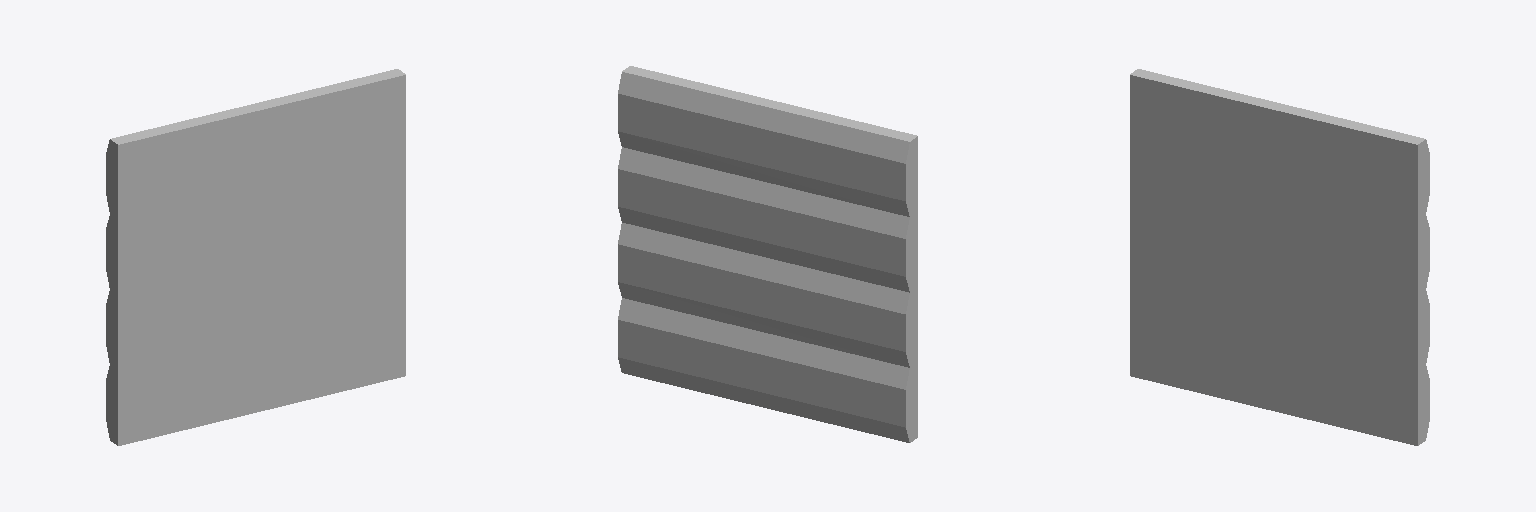
File: floor-wood-snow.obj
The picture shows the model from 3 angles: view 1: azimuth 30°, elevation 25°; view 2: azimuth 150°, elevation 25°; view 3: azimuth 330°, elevation 25°; orthographic projection.
Parts seen in each view (by area): view 1: floor-wood-snow; view 2: floor-wood-snow; view 3: floor-wood-snow.
Boxes of the visible parts, x1,y1,x2,y2 form: floor-wood-snow: [106, 69, 405, 445]; floor-wood-snow: [618, 66, 917, 442]; floor-wood-snow: [1130, 69, 1429, 445].
Size of the model in its own units: 1 by 1 by 0.075.